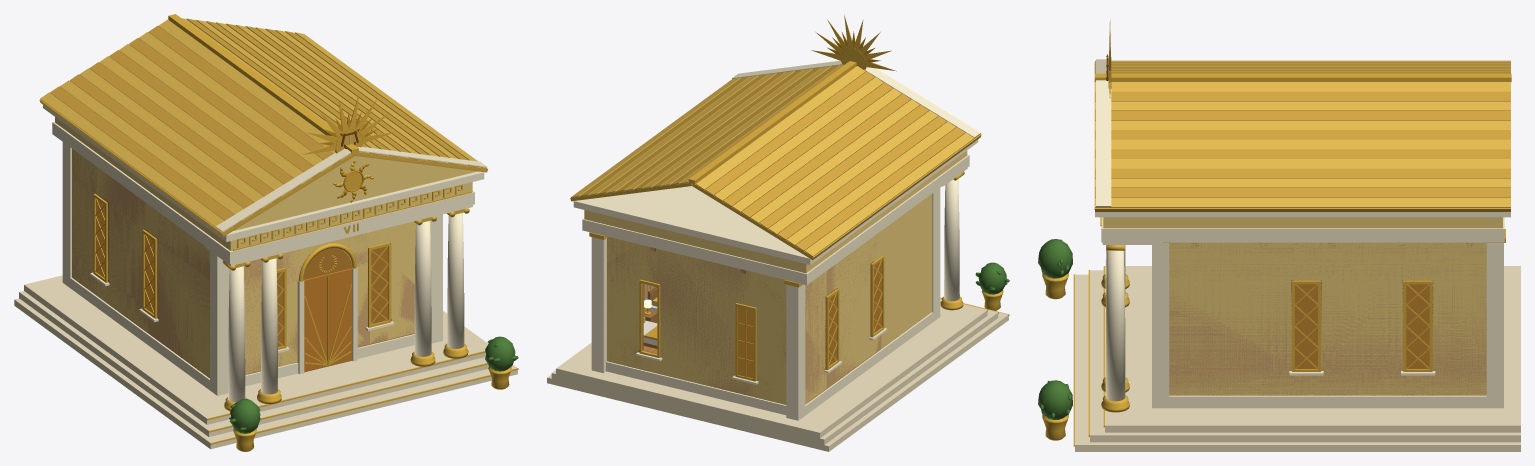
Rendered from apollo_cabin.glb.
The picture shows the model from 3 angles, left to right: view 1: azimuth 30°, elevation 25°; view 2: azimuth 150°, elevation 25°; view 3: azimuth 270°, elevation 25°; orthographic projection. The views are drawn at different scales.
Visible parts, largest first — view 1: APO_cream, APO_sun_yellow, APO_roof_a, APO_roof_b, APO_step, INT_pine, APO_gold, APO_window, DOOR_leaf_R, DOOR_leaf_L, APO_laurel, APO_gold_deep; view 2: APO_sun_yellow, APO_cream, APO_roof_a, APO_roof_b, APO_step, INT_pine, APO_gold, APO_window, APO_laurel, INT_trim; view 3: APO_sun_yellow, APO_roof_a, APO_roof_b, APO_step, APO_cream, INT_pine, APO_gold, APO_window, APO_laurel.
Boxes of the visible parts, x1,y1,x2,y2 form: APO_cream: (43, 105, 486, 402); APO_sun_yellow: (55, 117, 477, 378); APO_roof_a: (40, 18, 487, 233); APO_roof_b: (39, 18, 487, 236); APO_step: (14, 275, 517, 449); INT_pine: (72, 149, 414, 377); APO_gold: (93, 14, 518, 451); APO_window: (96, 199, 388, 346); DOOR_leaf_R: (327, 268, 352, 365); DOOR_leaf_L: (303, 274, 327, 371); APO_laurel: (229, 336, 518, 433); APO_gold_deep: (319, 112, 377, 198); APO_sun_yellow: (584, 150, 967, 404); APO_cream: (573, 60, 980, 420); APO_roof_a: (571, 64, 980, 256); APO_roof_b: (570, 65, 981, 259); APO_step: (547, 298, 1008, 451); INT_pine: (607, 232, 881, 402); APO_gold: (589, 15, 1009, 381); APO_window: (738, 261, 881, 378); APO_laurel: (975, 262, 1009, 294); INT_trim: (638, 247, 873, 379); APO_sun_yellow: (1103, 217, 1502, 395); APO_roof_a: (1095, 60, 1510, 207); APO_roof_b: (1095, 62, 1510, 211); APO_step: (1075, 266, 1520, 451); APO_cream: (1095, 59, 1510, 408); INT_pine: (1169, 243, 1486, 394); APO_gold: (1042, 20, 1511, 446); APO_window: (1295, 284, 1429, 368); APO_laurel: (1038, 239, 1072, 419).
Size of what is drawn, in the model's own units: 9.42 by 8.92 by 11.26.
